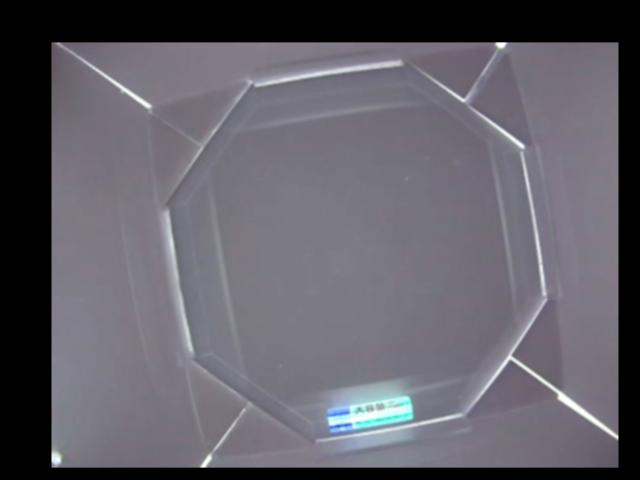Battery: (326, 394, 415, 434)
